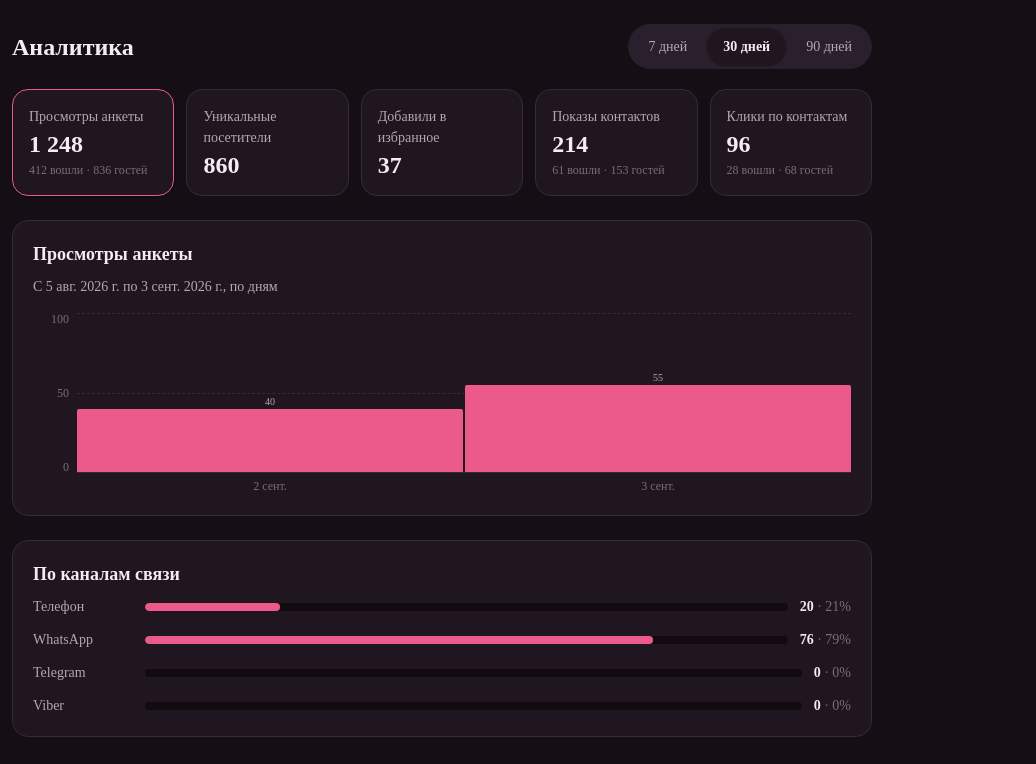
Test: график › переключается карточкой и подписывается выбранной метрикой
The image size is (1036, 764).
Expected: the button "Просмотры анкеты 1 248 412 вошли · 836 гостей" is shown, [12,89,174,196]
Expected: the heading "Просмотры анкеты" is shown, [33,244,193,264]
Click the button "Клики по контактам 96 28 вошли · 68 гостей" at (791, 143), box [710,89,872,196]
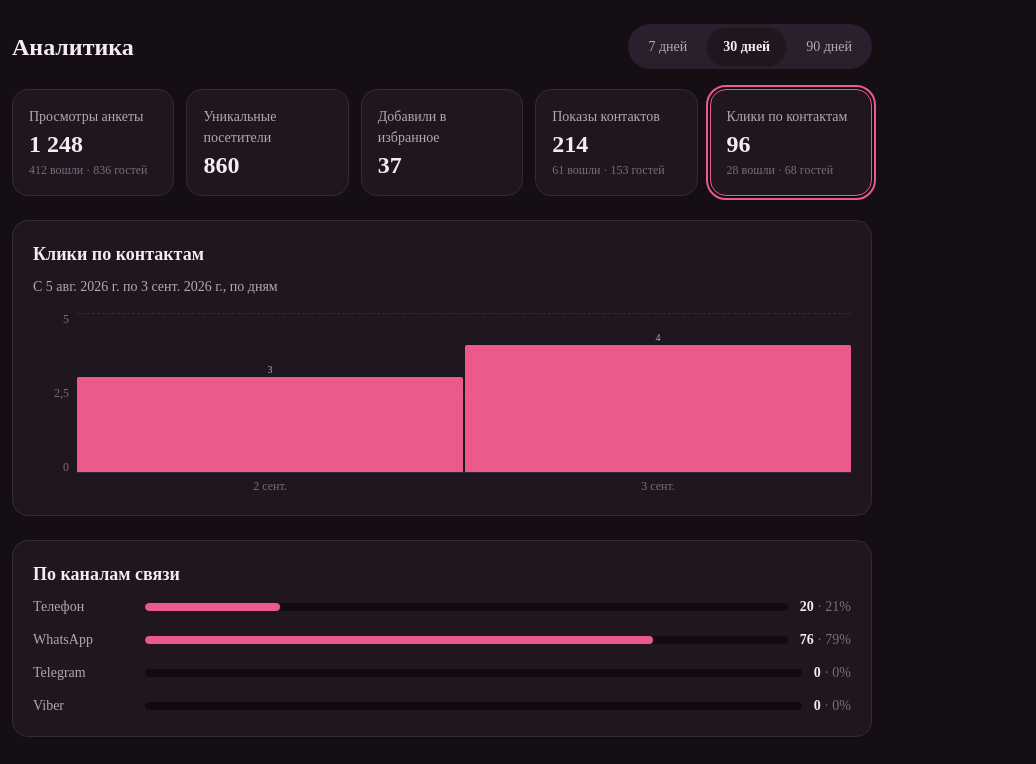
Now the heading "Клики по контактам" is shown, box [33,244,204,264]
